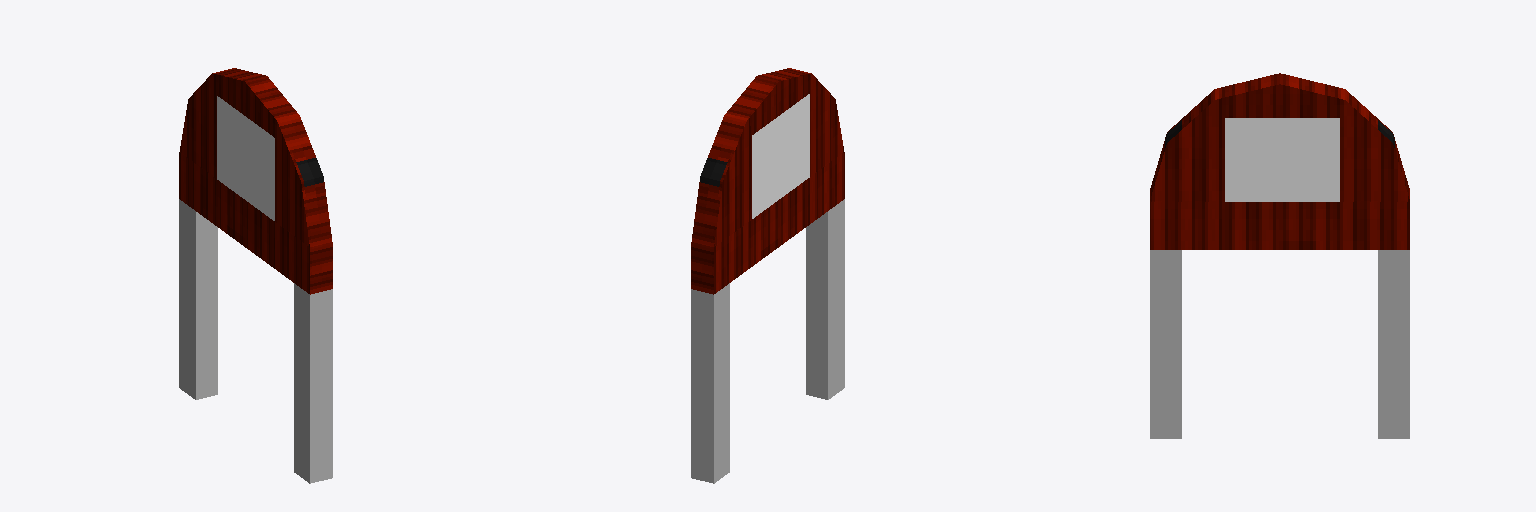
3 views of the same model, side by side, from view 1: azimuth 30°, elevation 25°; view 2: azimuth 150°, elevation 25°; view 3: azimuth 270°, elevation 25° (orthographic).
Visible parts, largest first — view 1: Object001, Arch_funny; view 2: Object001, Arch_funny; view 3: Object001, Arch_funny.
Part boxes in pixels (bbox=[...]): Object001: bbox=[179, 68, 332, 294]; Arch_funny: bbox=[179, 199, 332, 483]; Object001: bbox=[691, 68, 844, 294]; Arch_funny: bbox=[691, 199, 844, 483]; Object001: bbox=[1150, 73, 1409, 249]; Arch_funny: bbox=[1150, 250, 1409, 438].
Size of the model in its own units: 1 by 15 by 10.
Materials: 2 (1 with a texture image).